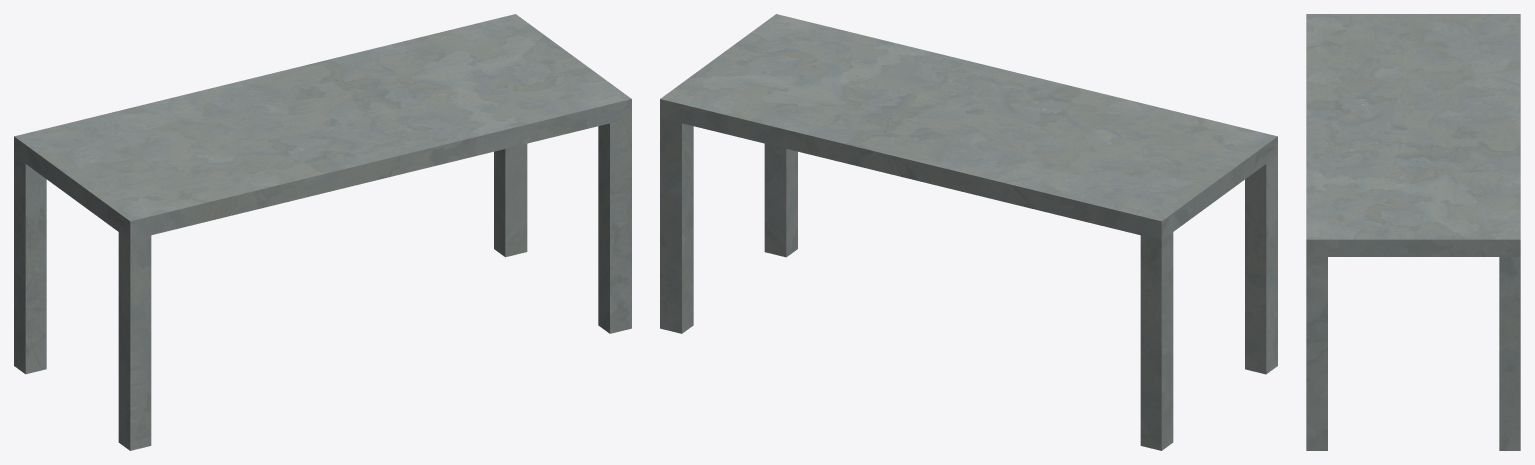
Rendered from table2.gltf.
The picture shows the model from 3 angles, left to right: view 1: azimuth 30°, elevation 25°; view 2: azimuth 150°, elevation 25°; view 3: azimuth 270°, elevation 25°; orthographic projection. The views are drawn at different scales.
Visible parts, largest first — view 1: Cube; view 2: Cube; view 3: Cube.
Boxes of the visible parts, x1=… form: Cube: x1=14, y1=14, x2=631, y2=450; Cube: x1=660, y1=14, x2=1277, y2=450; Cube: x1=1306, y1=14, x2=1520, y2=450.
Size of the model in its own units: 4.99 by 2.18 by 2.
1 material, 1 textured.
